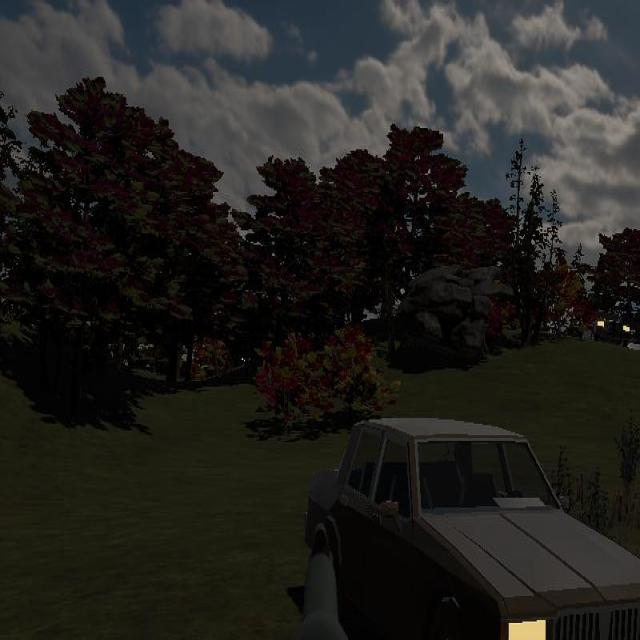car: (300, 416, 640, 638)
